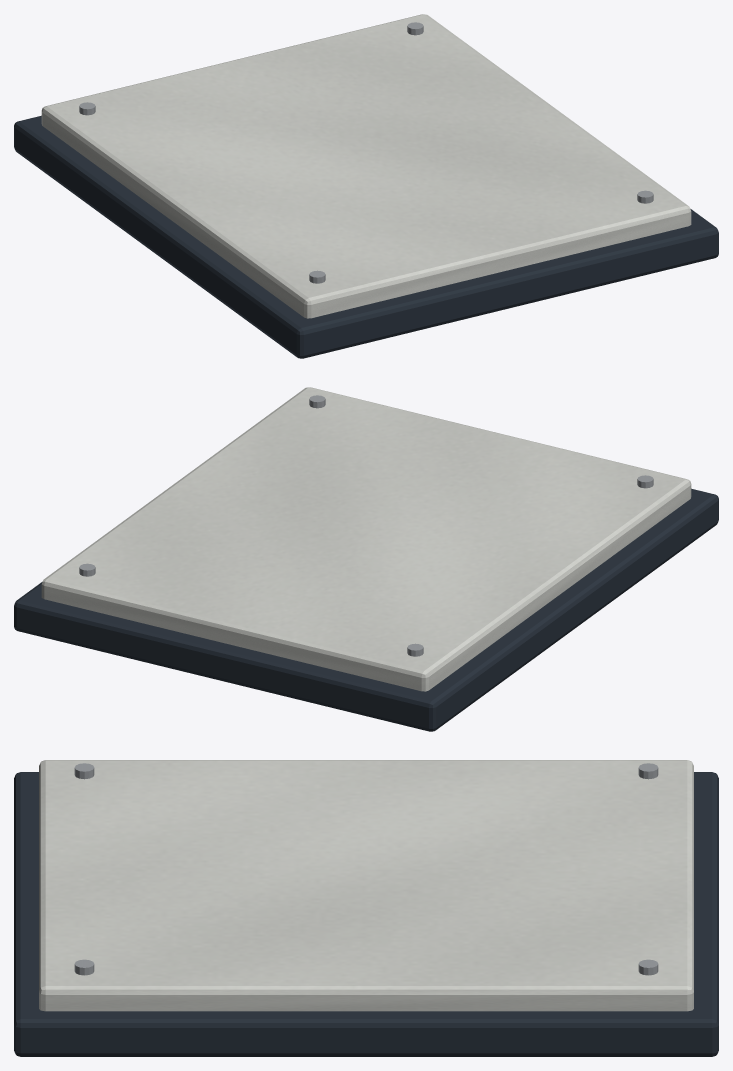
File: rocket_service_hatch.glb
The picture shows the model from 3 angles, top to bottom: view 1: azimuth 30°, elevation 25°; view 2: azimuth 150°, elevation 25°; view 3: azimuth 270°, elevation 25°; orthographic projection. The views are drawn at different scales.
Parts seen in each view (by area): view 1: Hatch_Cover, Hatch_Frame; view 2: Hatch_Cover, Hatch_Frame; view 3: Hatch_Cover, Hatch_Frame.
Part boxes in pixels (x1,y1,x2,y2): Hatch_Cover: (41,14,691,318); Hatch_Frame: (14,115,718,358); Hatch_Cover: (41,387,691,691); Hatch_Frame: (14,488,718,731); Hatch_Cover: (39,760,693,1011); Hatch_Frame: (14,772,718,1056).
Bounding box in the file's own units: 0.72 × 0.09 × 0.85.
Materials: 3 (2 with a texture image).
